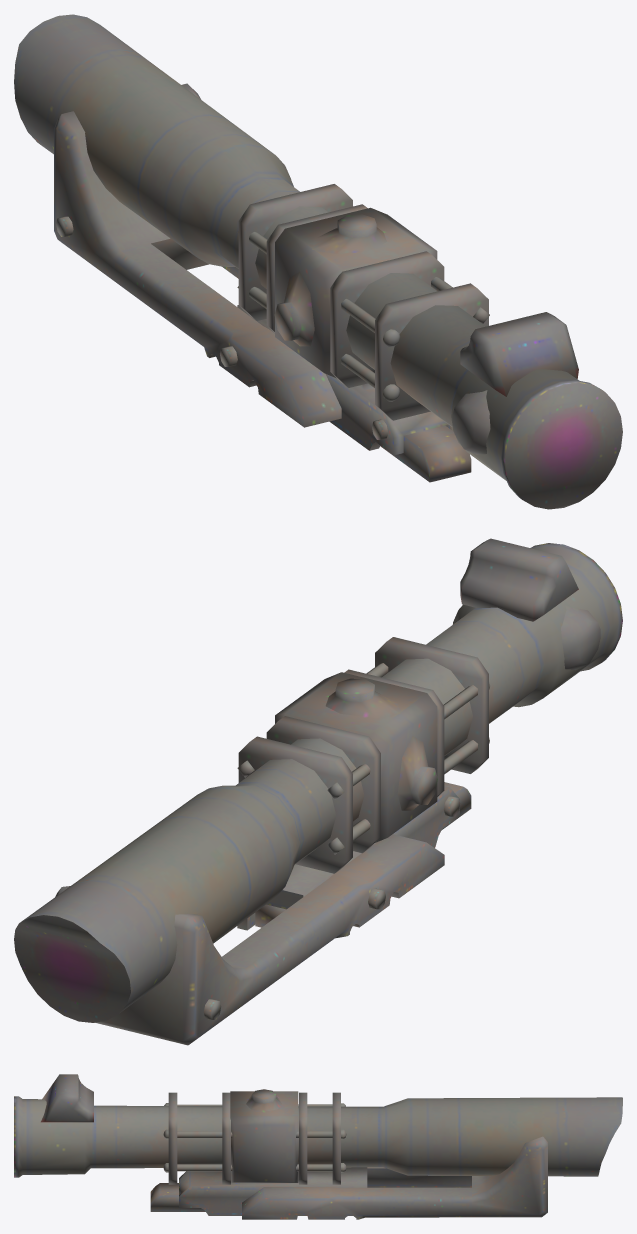
The model's file is sight4.obj.
3 renders of one model, top to bottom at view 1: azimuth 30°, elevation 25°; view 2: azimuth 150°, elevation 25°; view 3: azimuth 270°, elevation 25°, orthographic. The views are drawn at different scales.
Visible parts, largest first — view 1: sight4; view 2: sight4; view 3: sight4.
Boxes of the visible parts, bbox=[...] form: sight4: bbox=[14, 14, 622, 509]; sight4: bbox=[14, 538, 622, 1045]; sight4: bbox=[14, 1074, 622, 1219].
Bounding box in the file's own units: 7.36 × 9.57 × 43.52.
